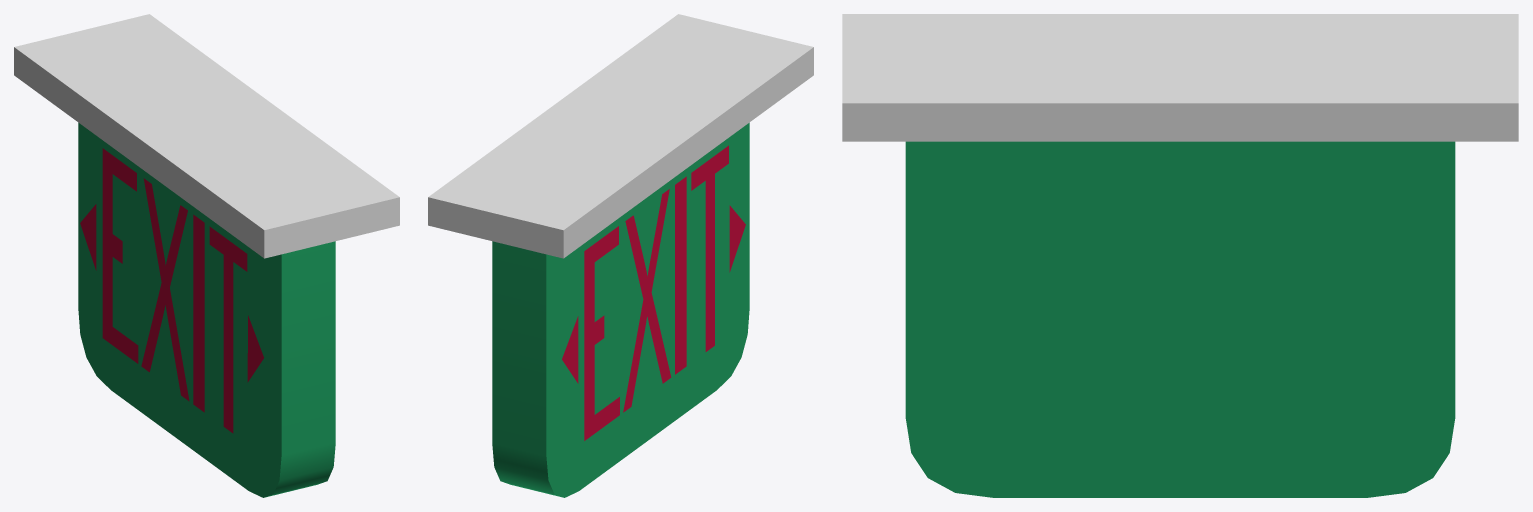
The model's file is SM_Exit_01.fbx.
3 views of the same model, side by side, from view 1: azimuth 30°, elevation 25°; view 2: azimuth 150°, elevation 25°; view 3: azimuth 270°, elevation 25° (orthographic). The views are drawn at different scales.
Parts seen in each view (by area): view 1: SM_Exit_02, SM_Exit_01, SM_ExitLight_01, SM_ExitLightArrowLeft_01, SM_ExitLightArrowRight_01; view 2: SM_Exit_02, SM_Exit_01, SM_ExitLight_01, SM_ExitLightArrowLeft_01, SM_ExitLightArrowRight_01; view 3: SM_Exit_02, SM_Exit_01.
Part boxes in pixels (x1,y1,x2,y2): SM_Exit_02: (78,122,335,497); SM_Exit_01: (14,14,399,258); SM_ExitLight_01: (102,148,247,433); SM_ExitLightArrowLeft_01: (80,204,96,270); SM_ExitLightArrowRight_01: (247,315,263,382); SM_Exit_02: (492,122,749,497); SM_Exit_01: (428,14,813,258); SM_ExitLight_01: (584,145,728,440); SM_ExitLightArrowLeft_01: (562,316,578,383); SM_ExitLightArrowRight_01: (729,205,745,272); SM_Exit_02: (905,141,1455,497); SM_Exit_01: (842,14,1518,141).
Bounding box in the file's own units: 10 × 22 × 32.
